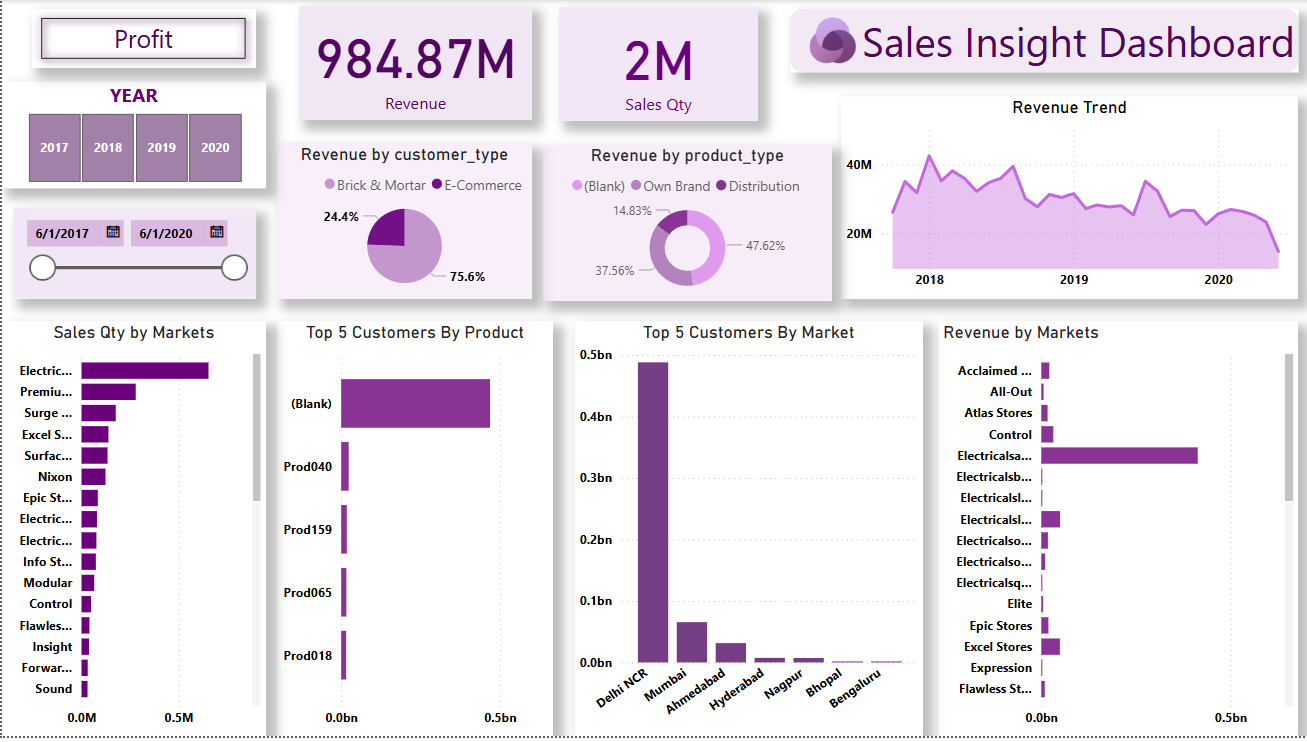

This screenshot's page, from the dashboard's own definition file:
{"tool":"powerbi","page":{"name":"Dashboard","canvas":[1280,720],"ordinal":0},"visuals":[{"type":"shape","box":[771.6,8.6,496.5,62.4],"z":0},{"type":"slicer","title":"YEAR","fields":{"Values":["sales date.year"]},"box":[0,79.5,258,105.2],"z":1000},{"type":"slicer","fields":{"Values":["sales date.cy_date"]},"box":[11,204.2,237.2,88],"z":2000},{"type":"card","title":"Rvenue","fields":{"Values":["BaseMeasures.Revenue"]},"box":[291,6.1,227.4,111.3],"z":3000},{"type":"card","fields":{"Values":["BaseMeasures.Sales Qut"]},"box":[545.4,7.3,194.4,111.3],"z":4000},{"type":"pieChart","fields":{"Y":["BaseMeasures.Revenue"],"Category":["sales customers.customer_type"]},"box":[269,140.6,249.5,151.6],"z":5000},{"type":"lineChart","title":"Revenue Trend","fields":{"Y":["BaseMeasures.Revenue"],"Category":["sales date.cy_date"]},"box":[820.5,94.2,447.6,198.1],"z":6000},{"type":"barChart","title":"Sales Qty by  Markets","fields":{"Category":["sales customers.custmer_name"],"Y":["BaseMeasures.Sales Qty"]},"box":[0,314.3,258,406],"z":7000},{"type":"clusteredColumnChart","title":"Top 5 Customers By Market","fields":{"Category":["sales markets.markets_name"],"Y":["BaseMeasures.Revenue"]},"box":[560.1,314.3,341.2,406],"z":8000},{"type":"barChart","title":"Top 5 Customers By Product","fields":{"Y":["BaseMeasures.Revenue"],"Category":["sales products.product_code"]},"box":[269,314.3,270.2,406],"z":9000},{"type":"donutChart","fields":{"Category":["sales products.product_type"],"Y":["BaseMeasures.Revenue"]},"box":[529.5,141.8,282.5,152.9],"z":10000},{"type":"image","box":[785.1,11,55,56.3],"z":11000},{"type":"clusteredBarChart","title":"Revenue by Markets","fields":{"Category":["sales customers.custmer_name"],"Y":["BaseMeasures.Revenue"]},"box":[915.9,314.3,352.2,406],"z":12000},{"type":"pageNavigator","box":[29.3,8.6,218.9,58.7],"z":13000}]}

Visuals, with their boxes in screenshot pixels (x1, y1, x2, y2), scaled from the page's 1280x720 canvas onto the 1307x742 screenshot:
shape: {"x1": 788, "y1": 9, "x2": 1295, "y2": 73}
"YEAR" slicer: {"x1": 0, "y1": 82, "x2": 263, "y2": 190}
slicer - sales date.cy_date: {"x1": 11, "y1": 210, "x2": 253, "y2": 301}
"Rvenue" card: {"x1": 297, "y1": 6, "x2": 529, "y2": 121}
card - BaseMeasures.Sales Qut: {"x1": 557, "y1": 8, "x2": 755, "y2": 122}
pieChart - BaseMeasures.Revenue x sales customers.customer_type: {"x1": 275, "y1": 145, "x2": 529, "y2": 301}
"Revenue Trend" lineChart: {"x1": 838, "y1": 97, "x2": 1295, "y2": 301}
"Sales Qty by  Markets" barChart: {"x1": 0, "y1": 324, "x2": 263, "y2": 741}
"Top 5 Customers By Market" clusteredColumnChart: {"x1": 572, "y1": 324, "x2": 920, "y2": 741}
"Top 5 Customers By Product" barChart: {"x1": 275, "y1": 324, "x2": 551, "y2": 741}
donutChart - sales products.product_type x BaseMeasures.Revenue: {"x1": 541, "y1": 146, "x2": 829, "y2": 304}
image: {"x1": 802, "y1": 11, "x2": 858, "y2": 69}
"Revenue by Markets" clusteredBarChart: {"x1": 935, "y1": 324, "x2": 1295, "y2": 741}
pageNavigator: {"x1": 30, "y1": 9, "x2": 253, "y2": 69}
